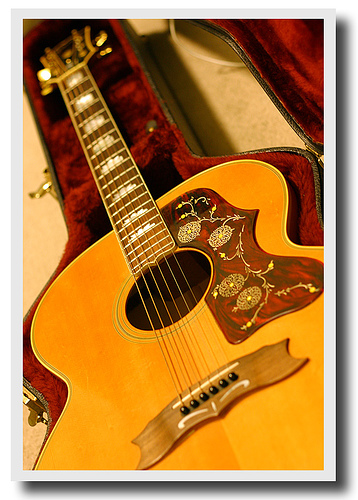guitar: (26, 21, 325, 470)
